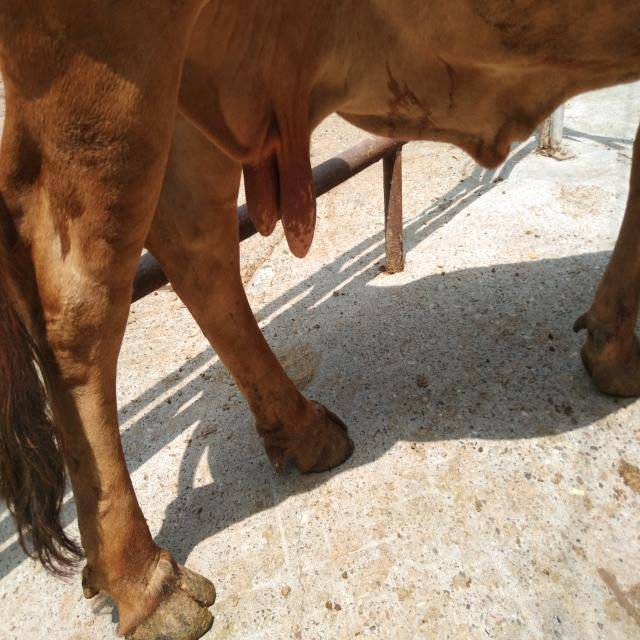Hoof: (260, 397, 354, 475), (573, 309, 639, 398)
